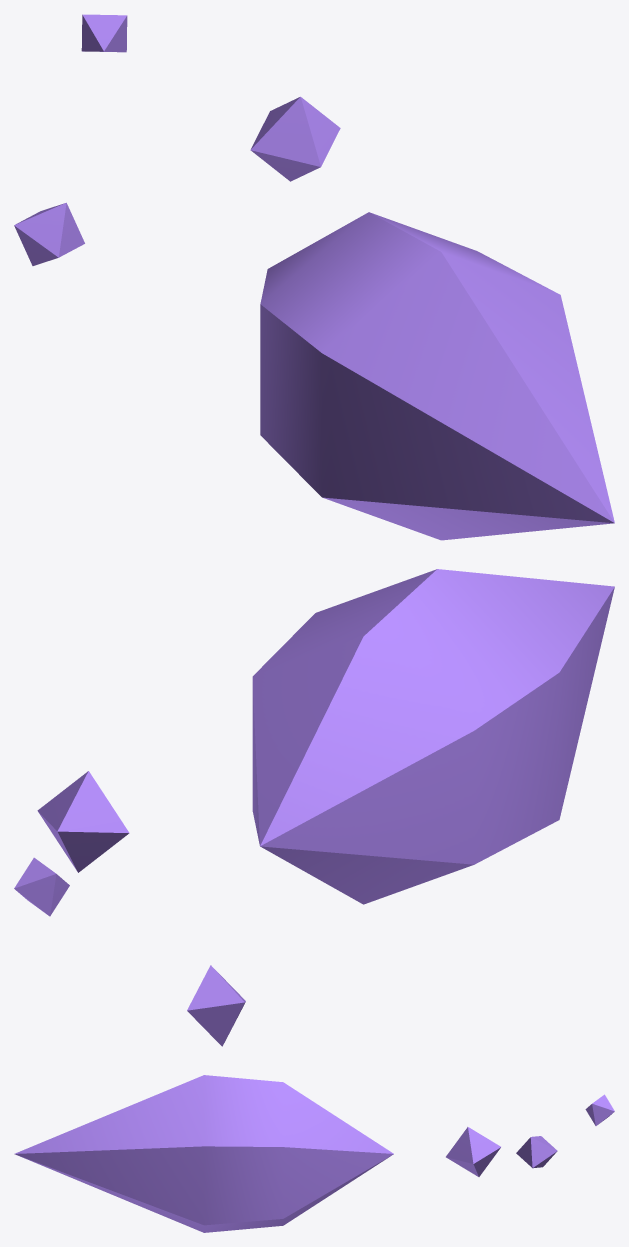
File: projectile-bolt.glb
The picture shows the model from 3 angles, top to bottom: view 1: azimuth 30°, elevation 25°; view 2: azimuth 150°, elevation 25°; view 3: azimuth 270°, elevation 25°; orthographic projection. The views are drawn at different scales.
Visible parts, largest first — view 1: bolt; view 2: bolt; view 3: bolt.
Boxes of the visible parts, left/top/right/bottom form: bolt: left=14, top=14, right=614, bottom=540; bolt: left=14, top=569, right=614, bottom=1046; bolt: left=14, top=1075, right=614, bottom=1232.
Bounding box in the file's own units: 0.1056 × 0.11 × 0.3793.
